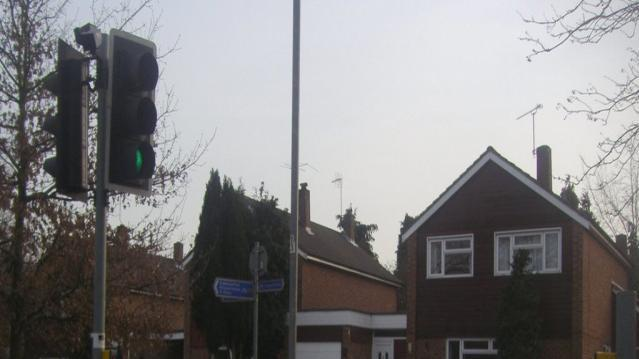green_light: (104, 28, 158, 198)
